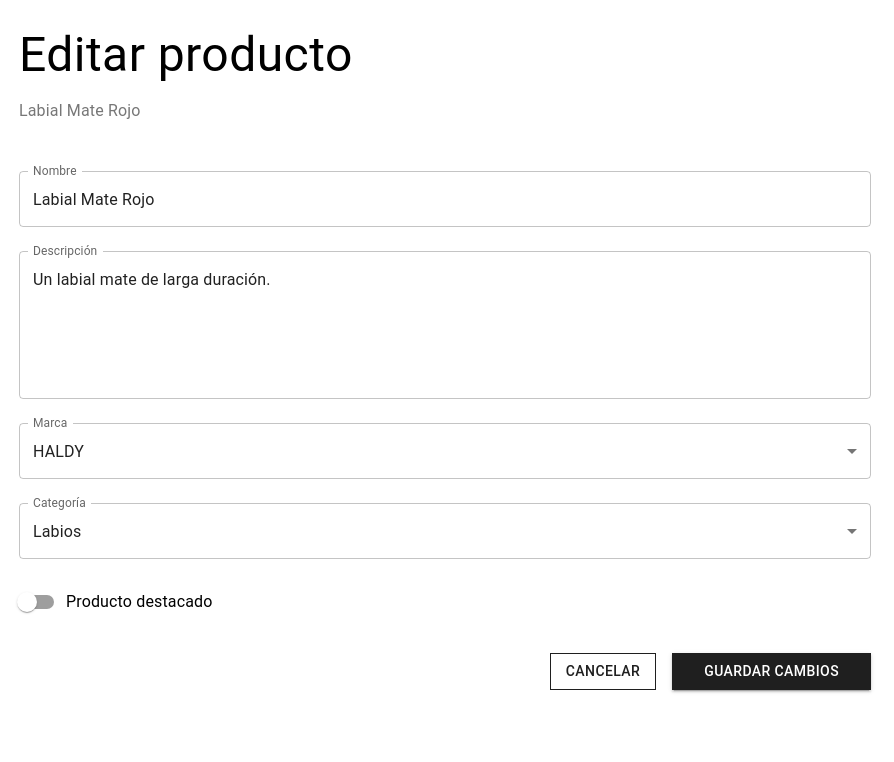
it: AdminProductEdit › shows the backend error message when saving fails
(page scrolled)
Expected: the field showing "Labial Mate Rojo" is shown, [19,171,871,227]
Click the button "Guardar cambios": (772, 671) [672,653,871,690]
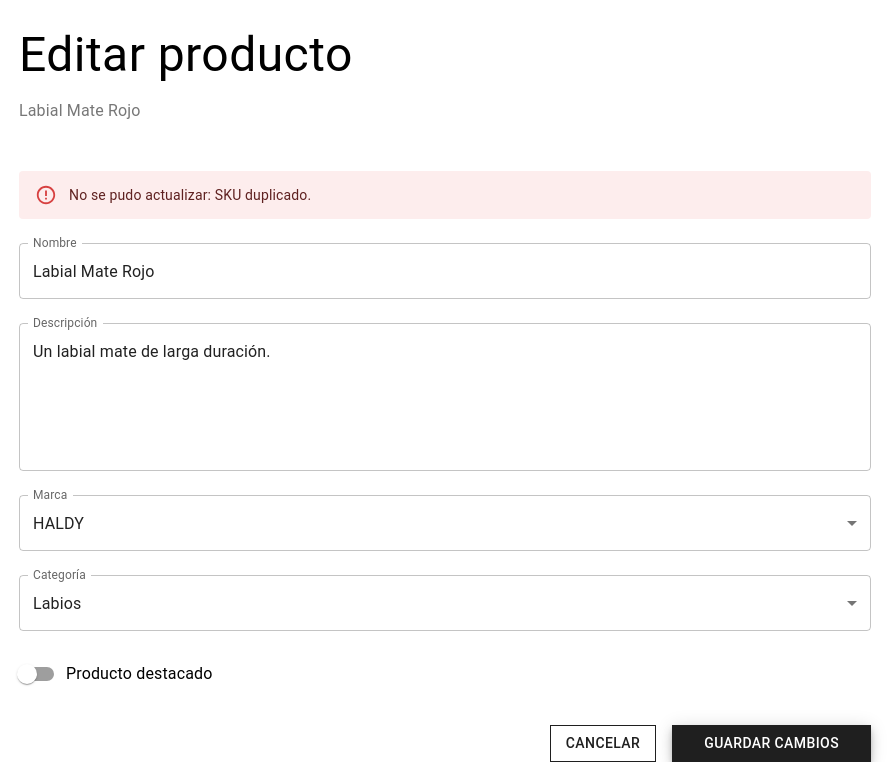
Expected: the text "No se pudo actualizar: SKU duplicado." is shown, [69,187,311,203]
